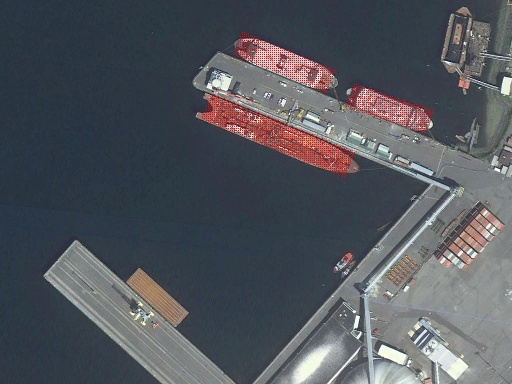ship: (194, 91, 364, 182), (229, 31, 342, 96), (342, 83, 438, 136)
